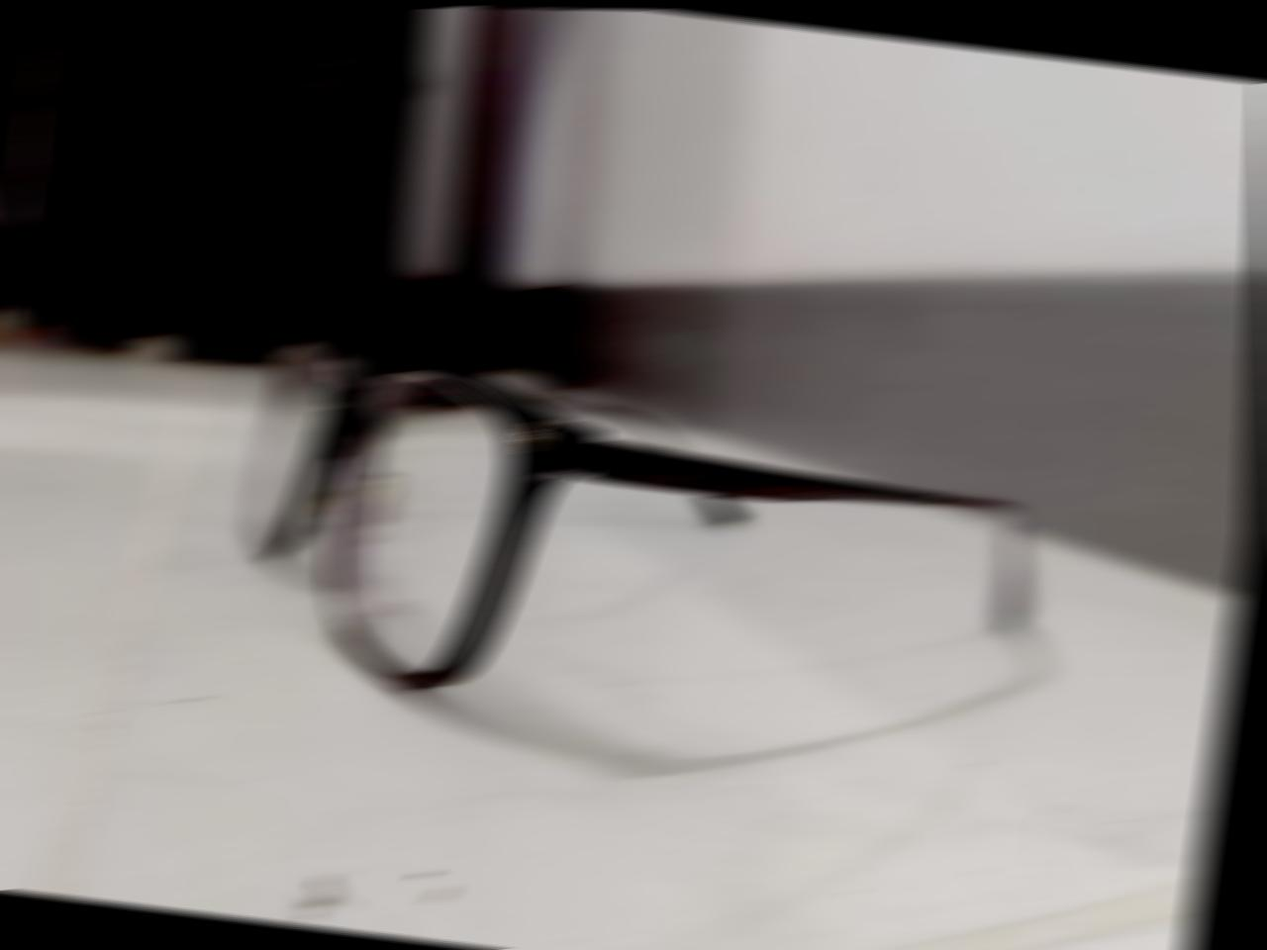glasses: (185, 324, 1067, 772)
